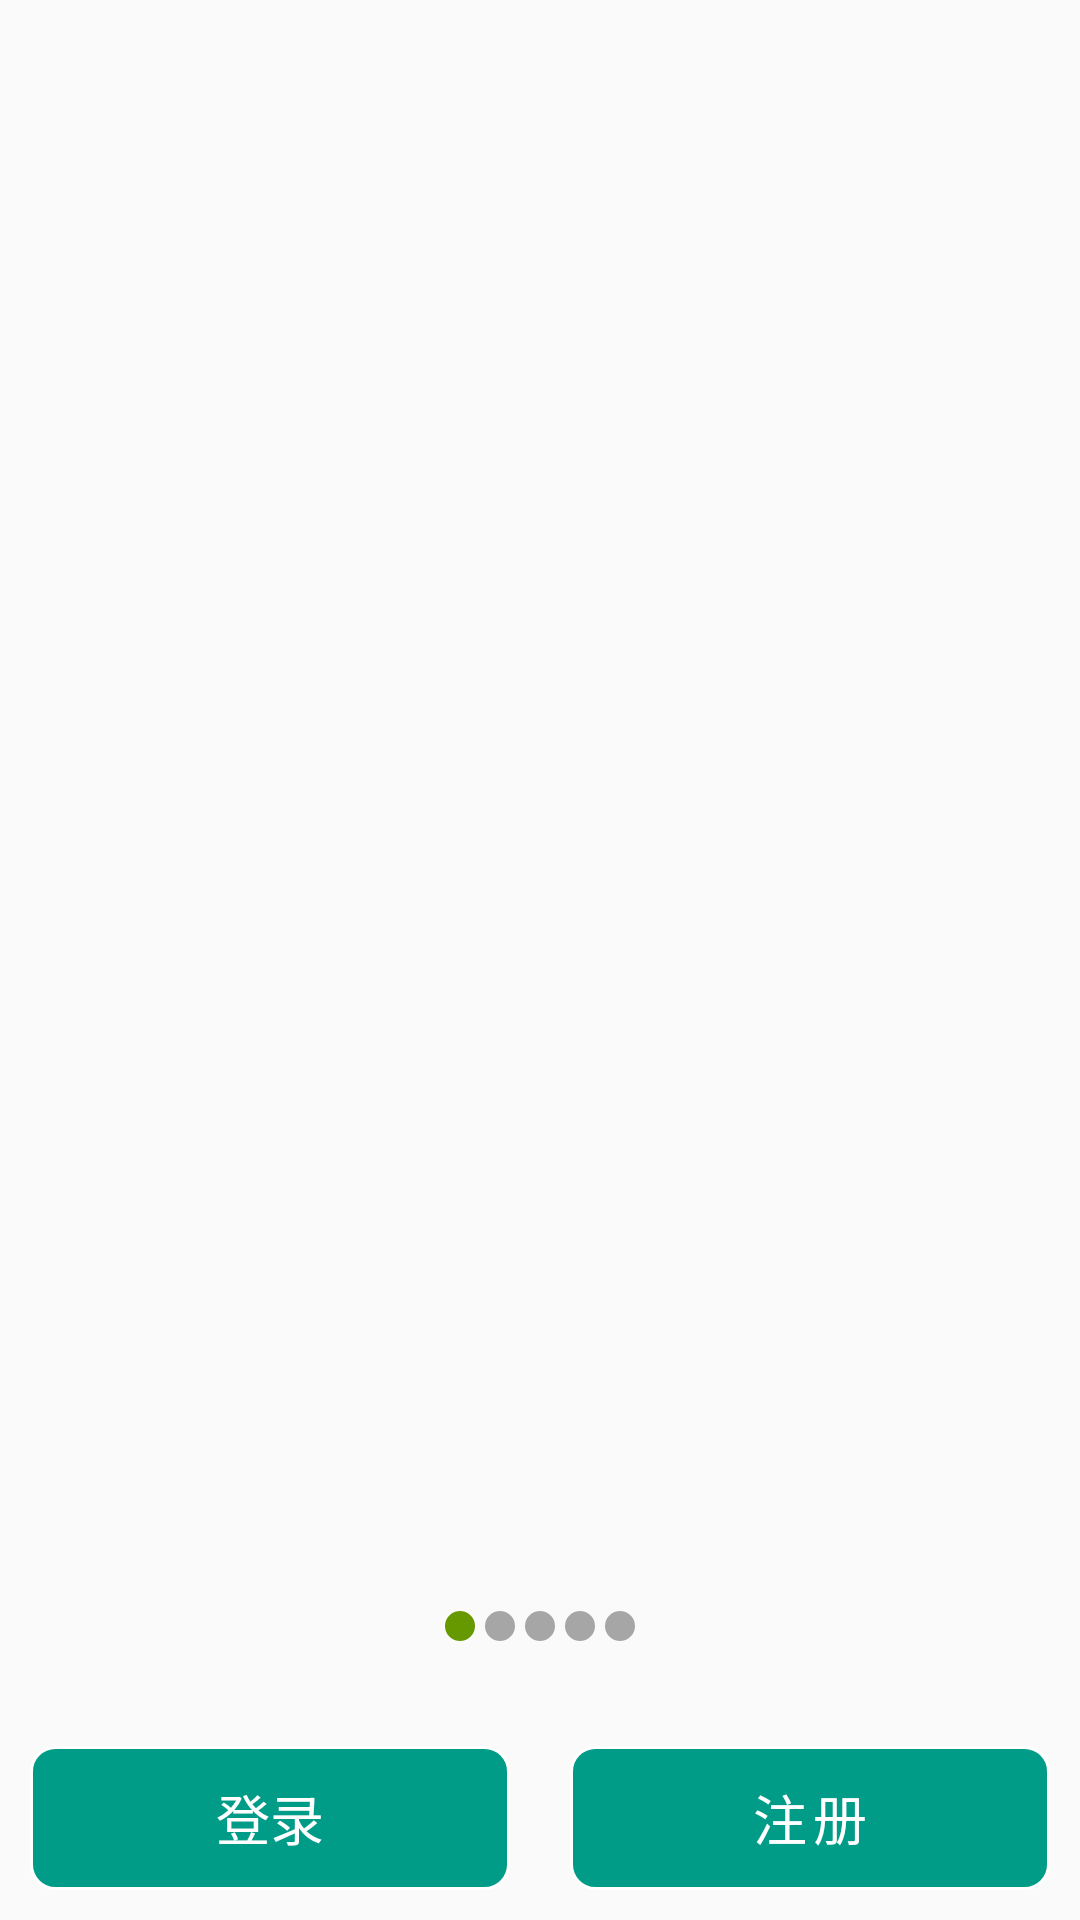

Icon click points for this 1080x1920 phone screenshot, format (x,y):
dot: (460,1626), (500,1626), (540,1626), (580,1626), (620,1626)
